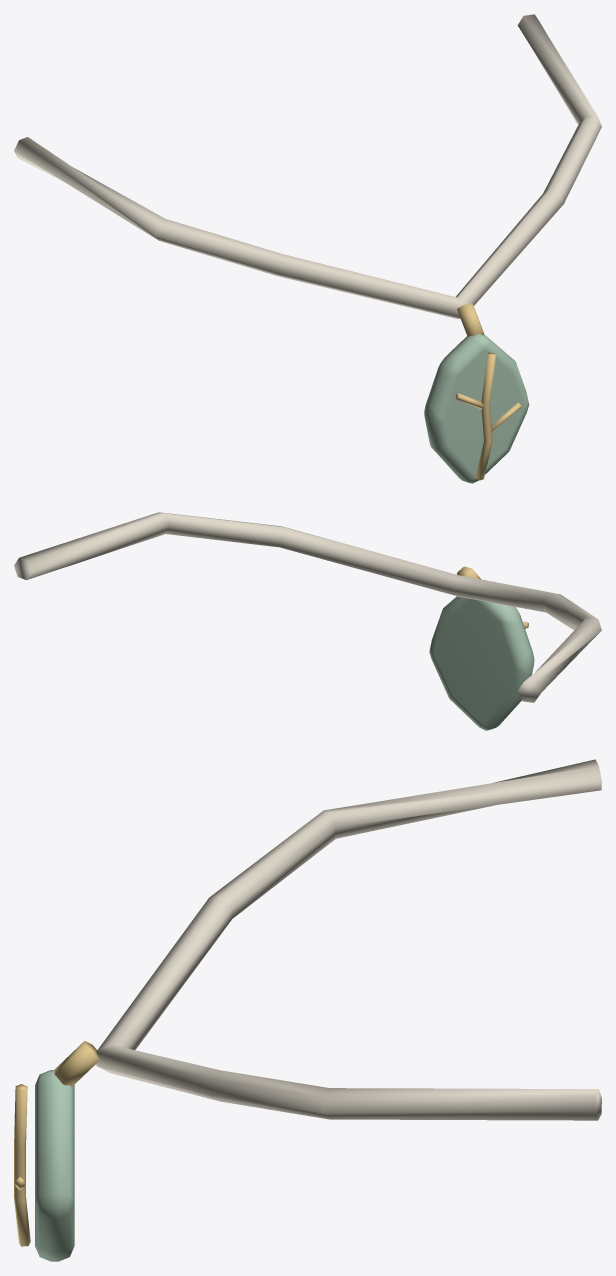
Rendered from leaf_pendant.glb.
3 renders of one model, top to bottom at view 1: azimuth 30°, elevation 25°; view 2: azimuth 150°, elevation 25°; view 3: azimuth 270°, elevation 25°, orthographic. The views are drawn at different scales.
Visible parts, largest first — view 1: Cream pendant cord, Sage leaf pendant, Gold leaf vein; view 2: Cream pendant cord, Sage leaf pendant; view 3: Cream pendant cord, Sage leaf pendant, Gold leaf vein, Pendant clasp loop.
Boxes of the visible parts, box(x1,y1,x2,y2) form: Cream pendant cord: box(14, 14, 601, 318); Sage leaf pendant: box(424, 334, 529, 483); Gold leaf vein: box(475, 352, 496, 480); Cream pendant cord: box(14, 512, 601, 702); Sage leaf pendant: box(429, 579, 534, 730); Cream pendant cord: box(96, 759, 601, 1120); Sage leaf pendant: box(35, 1070, 74, 1261); Gold leaf vein: box(14, 1084, 30, 1246); Pendant clasp loop: box(54, 1041, 99, 1087).
Size of the model in its own units: 0.5135 by 0.2367 by 0.372.
